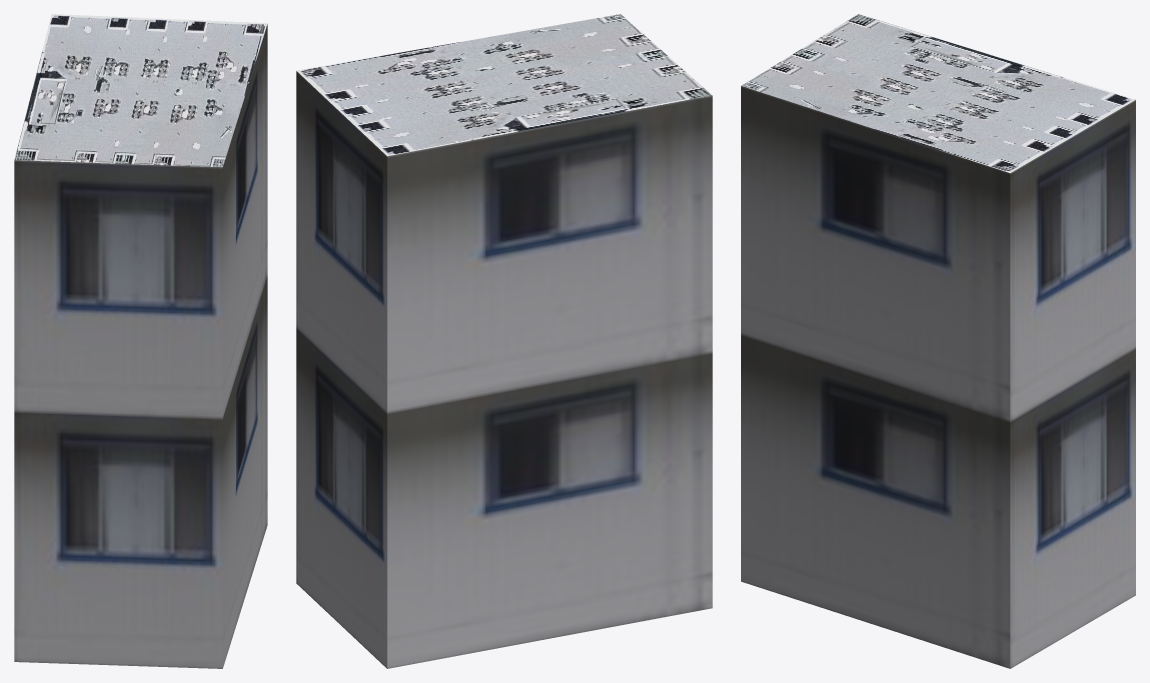
Rendered from ResTex__4840.fbx.
The picture shows the model from 3 angles, left to right: view 1: azimuth 30°, elevation 25°; view 2: azimuth 150°, elevation 25°; view 3: azimuth 270°, elevation 25°; orthographic projection. The views are drawn at different scales.
Visible parts, largest first — view 1: CityEngineMaterial_9_m, CityEngineMaterial_8_m; view 2: CityEngineMaterial_9_m, CityEngineMaterial_8_m; view 3: CityEngineMaterial_9_m, CityEngineMaterial_8_m.
Boxes of the visible parts, x1,y1,x2,y2 form: CityEngineMaterial_9_m: (14, 24, 267, 668); CityEngineMaterial_8_m: (14, 14, 267, 167); CityEngineMaterial_9_m: (296, 71, 712, 668); CityEngineMaterial_8_m: (296, 14, 712, 156); CityEngineMaterial_9_m: (741, 86, 1135, 668); CityEngineMaterial_8_m: (741, 14, 1135, 173).
Bounding box in the file's own units: 4.13 × 6 × 4.33.
2 materials, 2 textured.
